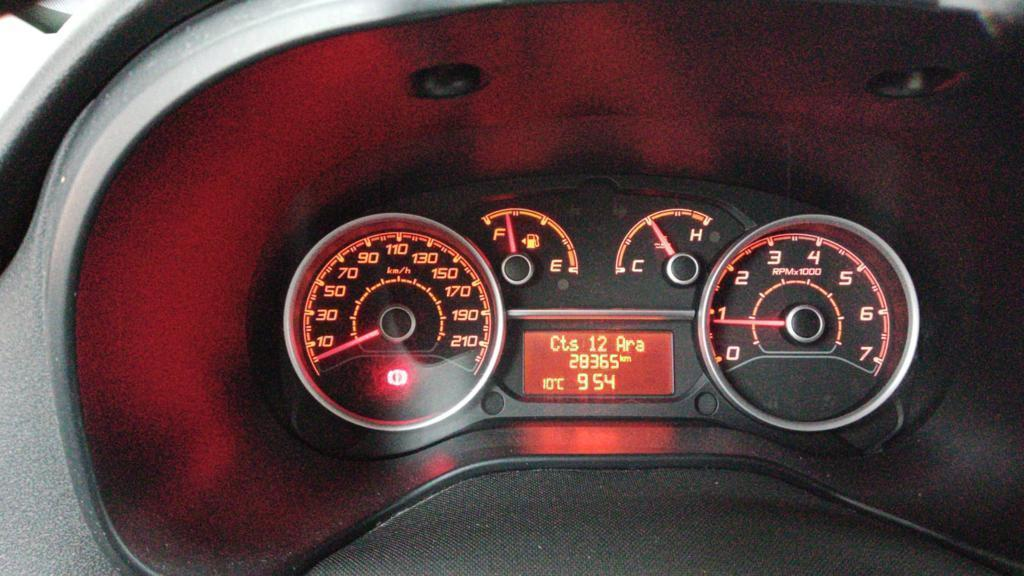0: (545, 377, 553, 390)
1: (589, 333, 596, 352), (543, 377, 545, 389)
2: (597, 335, 607, 351), (568, 353, 578, 368)
3: (589, 353, 598, 368)
4: (604, 373, 615, 389)
5: (592, 372, 603, 390), (609, 353, 618, 368)
6: (599, 353, 609, 368)
8: (579, 353, 589, 368)
9: (576, 372, 588, 390)
X: (550, 334, 560, 351), (560, 334, 569, 351), (616, 335, 625, 351), (635, 339, 645, 352), (569, 338, 578, 351), (625, 339, 634, 351), (557, 377, 565, 390), (624, 355, 632, 362), (619, 353, 623, 362)
odometer: (522, 327, 675, 397)
